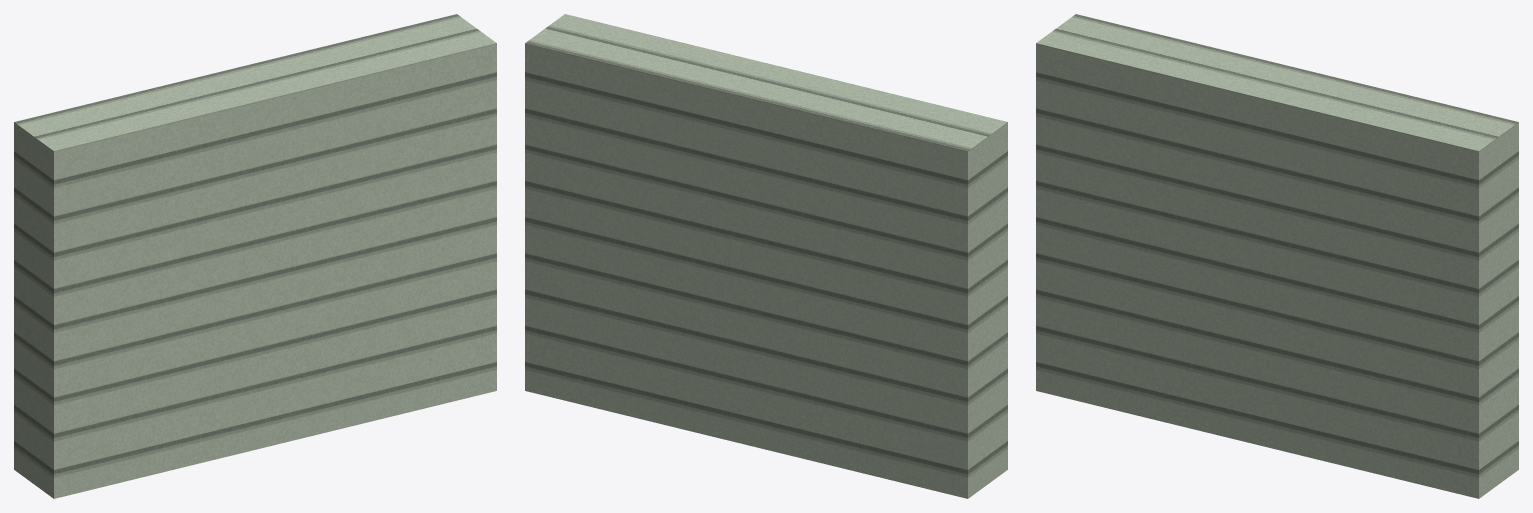
File: sorting_case_pigeonhole.glb
The picture shows the model from 3 angles, left to right: view 1: azimuth 30°, elevation 25°; view 2: azimuth 150°, elevation 25°; view 3: azimuth 330°, elevation 25°; orthographic projection.
Visible parts, largest first — view 1: sorting_case_pigeonhole-col; view 2: sorting_case_pigeonhole-col; view 3: sorting_case_pigeonhole-col.
Part boxes in pixels (x1,y1,x2,y2): sorting_case_pigeonhole-col: (14,14,496,498); sorting_case_pigeonhole-col: (525,14,1007,498); sorting_case_pigeonhole-col: (1036,14,1518,498).
Size of the model in its own units: 1.6 by 1.2 by 0.25.
Materials: 1 (1 with a texture image).
